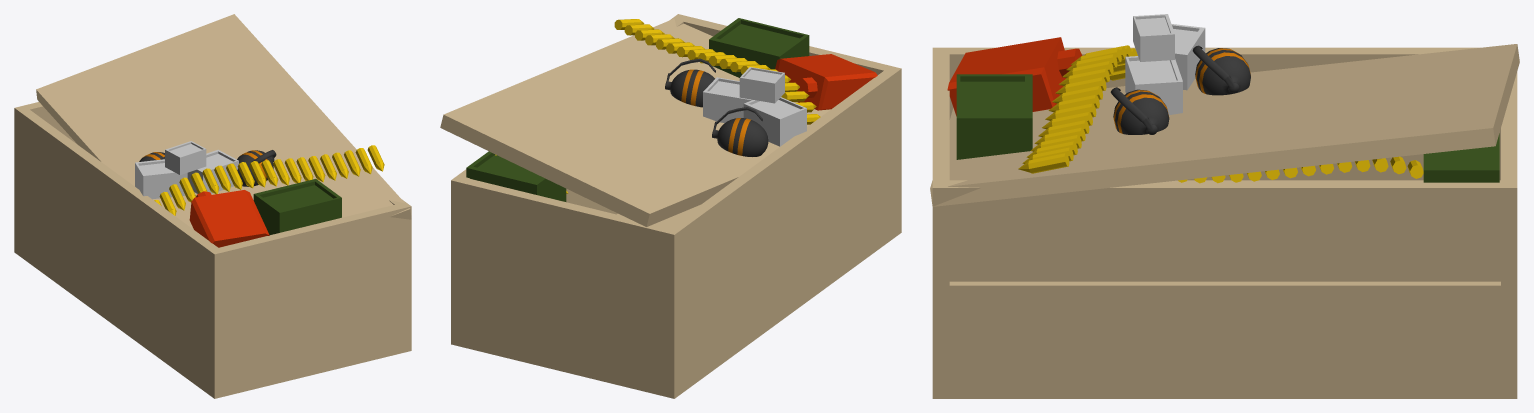
The model's file is ammopile.fbx.
3 renders of one model, left to right at view 1: azimuth 30°, elevation 25°; view 2: azimuth 150°, elevation 25°; view 3: azimuth 270°, elevation 25°, orthographic. The views are drawn at different scales.
Visible parts, largest first — view 1: Cube; view 2: Cube; view 3: Cube.
Boxes of the visible parts, x1,y1,x2,y2 form: Cube: (14,14,411,398); Cube: (440,14,901,398); Cube: (930,14,1519,398).
Bounding box in the file's own units: 217 × 187 × 355.
